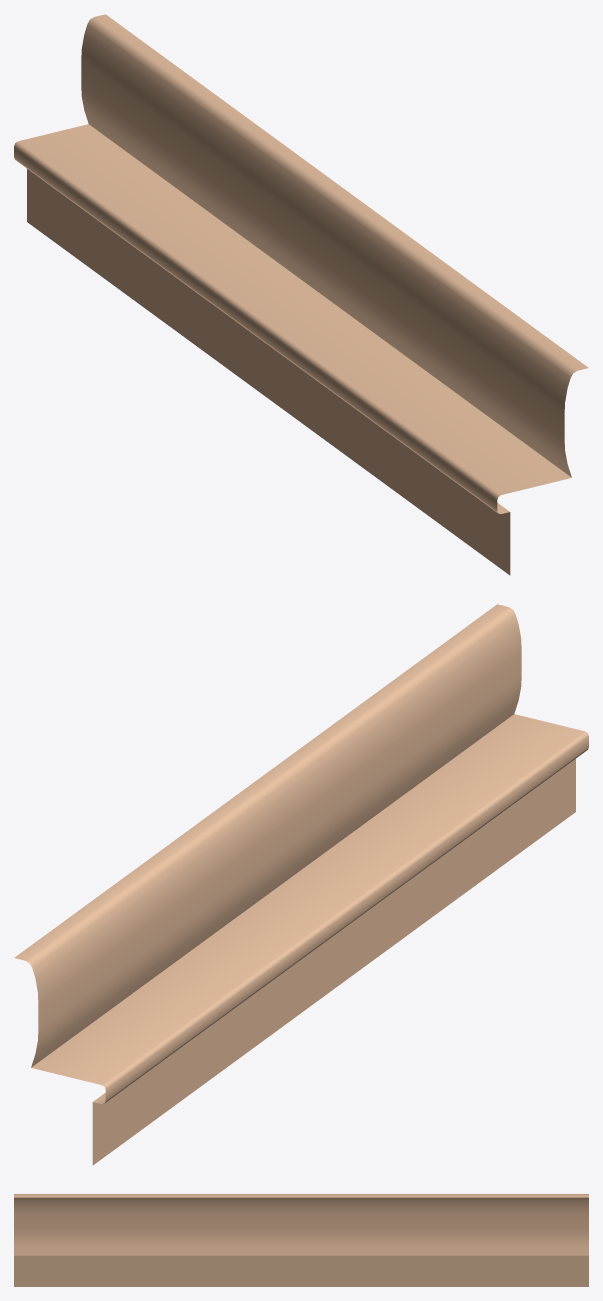
File: sofa aja.fbx
The picture shows the model from 3 angles, top to bottom: view 1: azimuth 30°, elevation 25°; view 2: azimuth 150°, elevation 25°; view 3: azimuth 270°, elevation 25°; orthographic projection. The views are drawn at different scales.
Parts seen in each view (by area): view 1: wall.010; view 2: wall.010; view 3: wall.010.
Boxes of the visible parts, x1=… form: wall.010: x1=14, y1=14, x2=588, y2=575; wall.010: x1=14, y1=604, x2=588, y2=1165; wall.010: x1=14, y1=1194, x2=588, y2=1286.
Bounding box in the file's own units: 0.5774 × 1.13 × 5.27.
